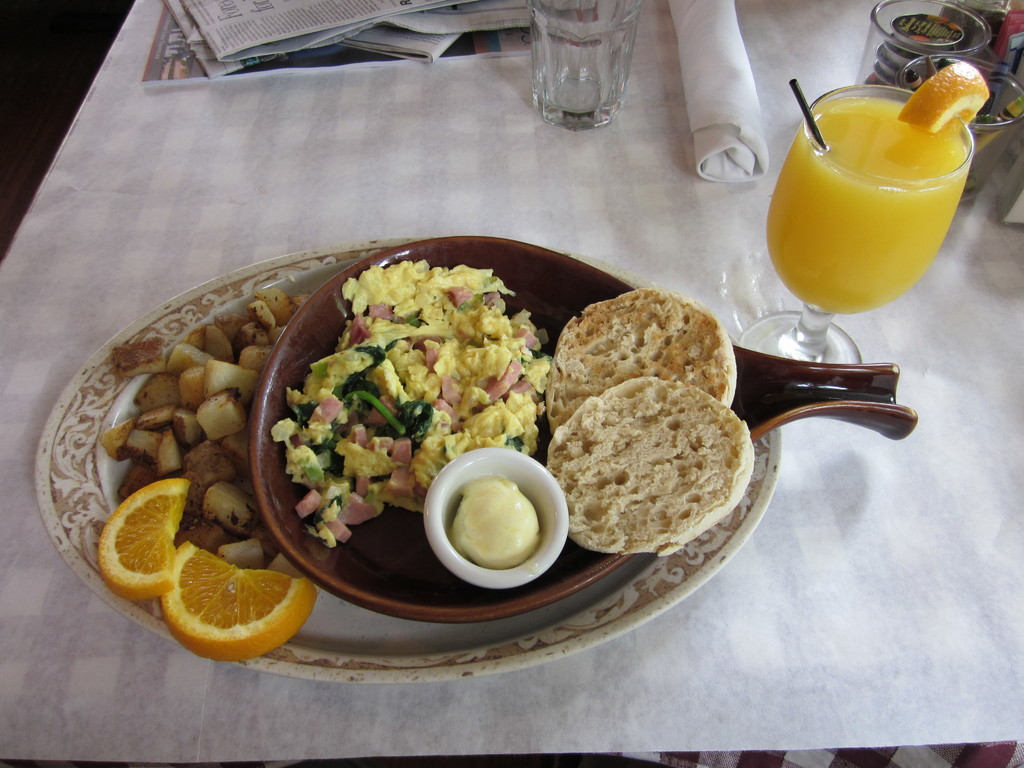Ripe: (157, 536, 319, 660), (94, 488, 184, 602)
